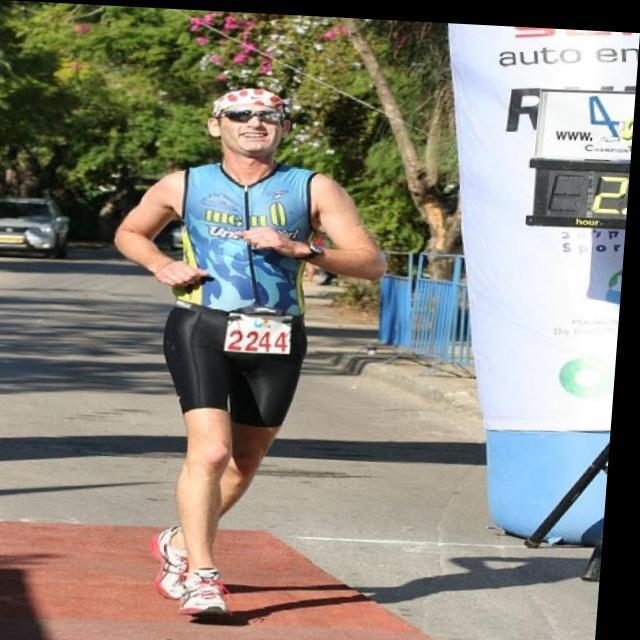dorsal: (226, 306, 305, 356)
